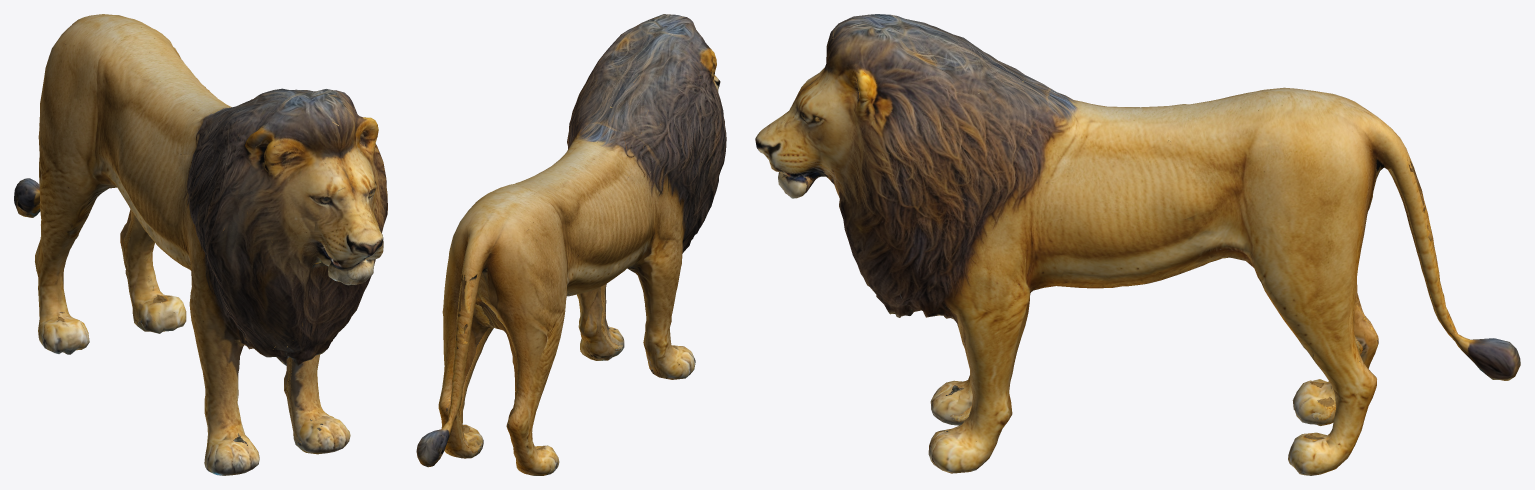
The model's file is e68b92f9-2319-4cea-8bc8-10b474913769.glb.
3 views of the same model, side by side, from view 1: azimuth 30°, elevation 25°; view 2: azimuth 150°, elevation 25°; view 3: azimuth 270°, elevation 25° (orthographic). The views are drawn at different scales.
Parts seen in each view (by area): view 1: Mesh_0.001; view 2: Mesh_0.001; view 3: Mesh_0.001.
Boxes of the visible parts, x1,y1,x2,y2 form: Mesh_0.001: (14,14,387,475); Mesh_0.001: (416,14,726,475); Mesh_0.001: (755,14,1520,475).
Bounding box in the file's own units: 0.3244 × 0.7349 × 1.2.
1 material, 1 textured.
